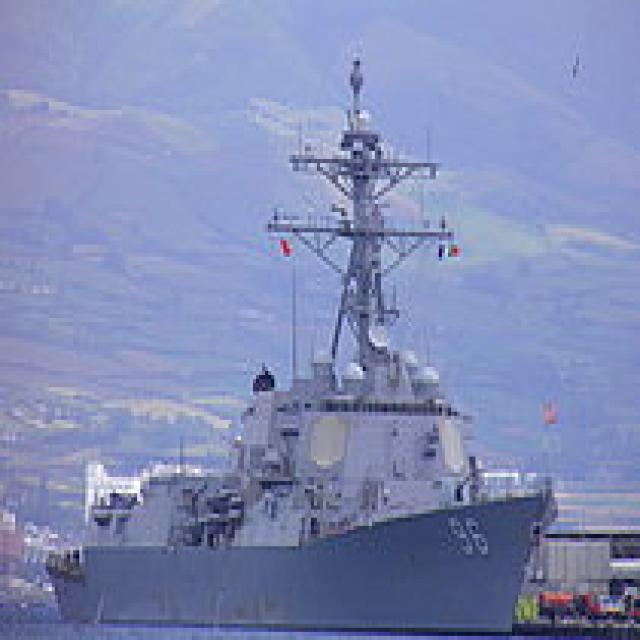Warship: (39, 53, 552, 628)
